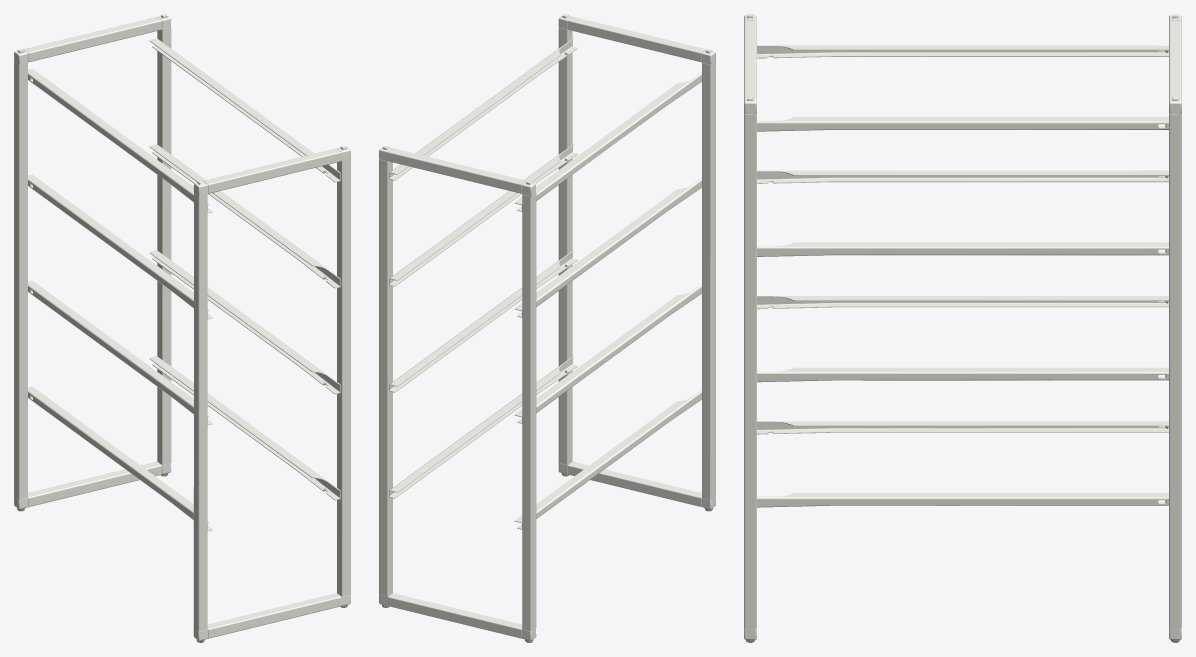
The model's file is jonaxel_rama_10429992.glb.
The picture shows the model from 3 angles, left to right: view 1: azimuth 30°, elevation 25°; view 2: azimuth 150°, elevation 25°; view 3: azimuth 270°, elevation 25°; orthographic projection. The views are drawn at different scales.
Parts seen in each view (by area): view 1: jonaxel_rama_10429992; view 2: jonaxel_rama_10429992; view 3: jonaxel_rama_10429992.
Part boxes in pixels (x1,y1,x2,y2): jonaxel_rama_10429992: (14, 14, 350, 642); jonaxel_rama_10429992: (379, 14, 715, 642); jonaxel_rama_10429992: (744, 14, 1181, 642).
Size of the model in its own units: 0.244 by 0.703 by 0.513.
1 material, 1 textured.
